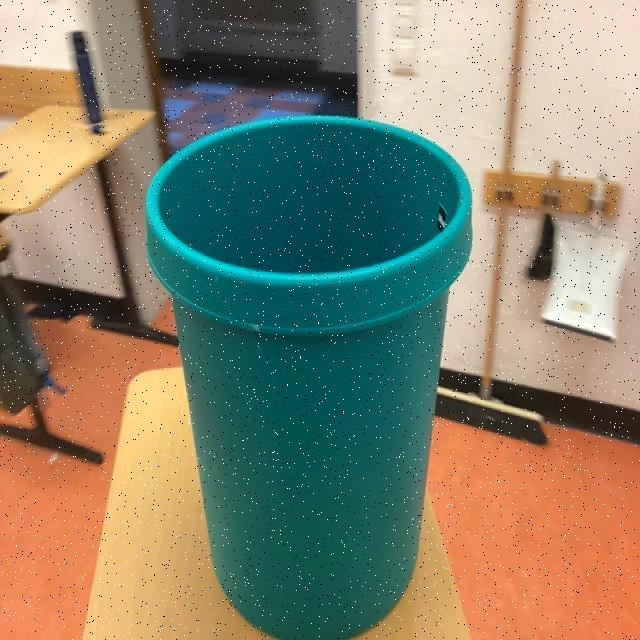garbage container: (126, 26, 511, 640)
